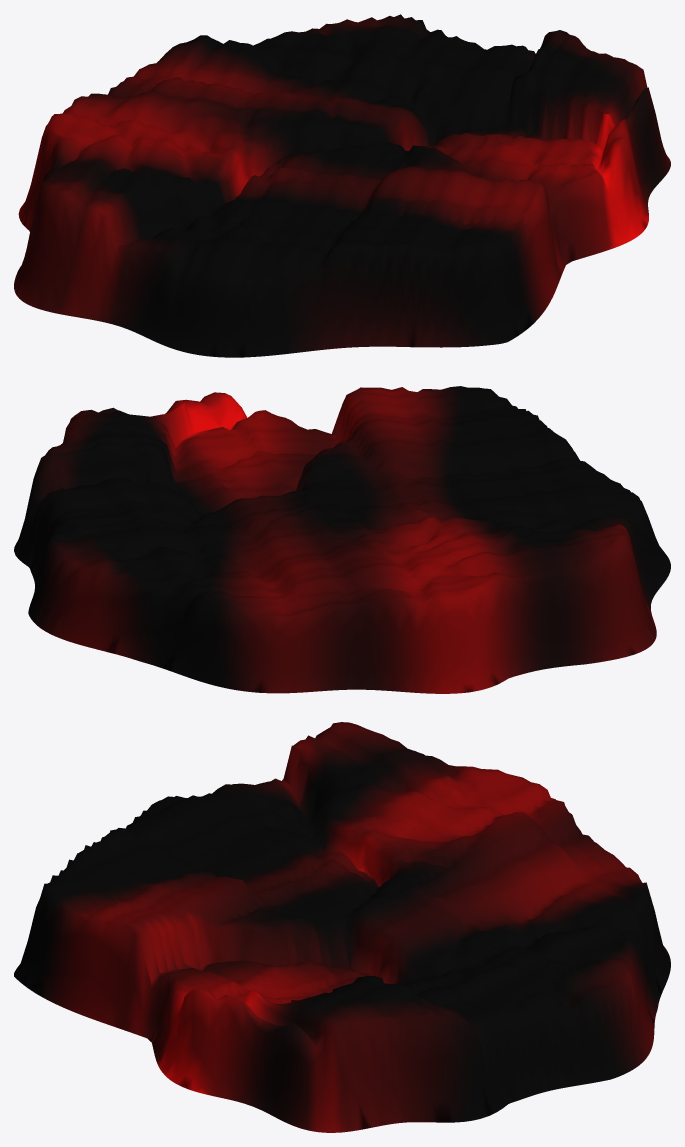
File: SM_BedrockSlab_00.fbx
The picture shows the model from 3 angles, top to bottom: view 1: azimuth 30°, elevation 25°; view 2: azimuth 150°, elevation 25°; view 3: azimuth 270°, elevation 25°; orthographic projection. The views are drawn at different scales.
Visible parts, largest first — view 1: SM_BedrockSlab_00; view 2: SM_BedrockSlab_00; view 3: SM_BedrockSlab_00.
Part boxes in pixels (x1,y1,x2,y2): SM_BedrockSlab_00: (14,14,670,357); SM_BedrockSlab_00: (14,386,670,693); SM_BedrockSlab_00: (14,722,670,1132).
Size of the model in its own units: 274 by 239 by 43.81.
